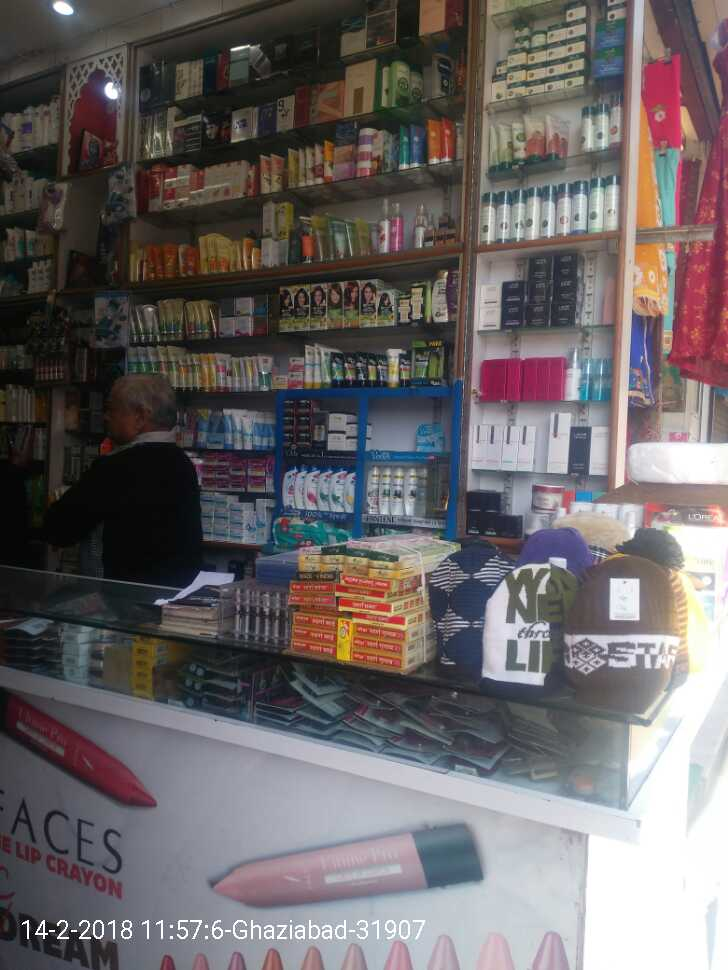venus: (417, 424, 443, 450)
